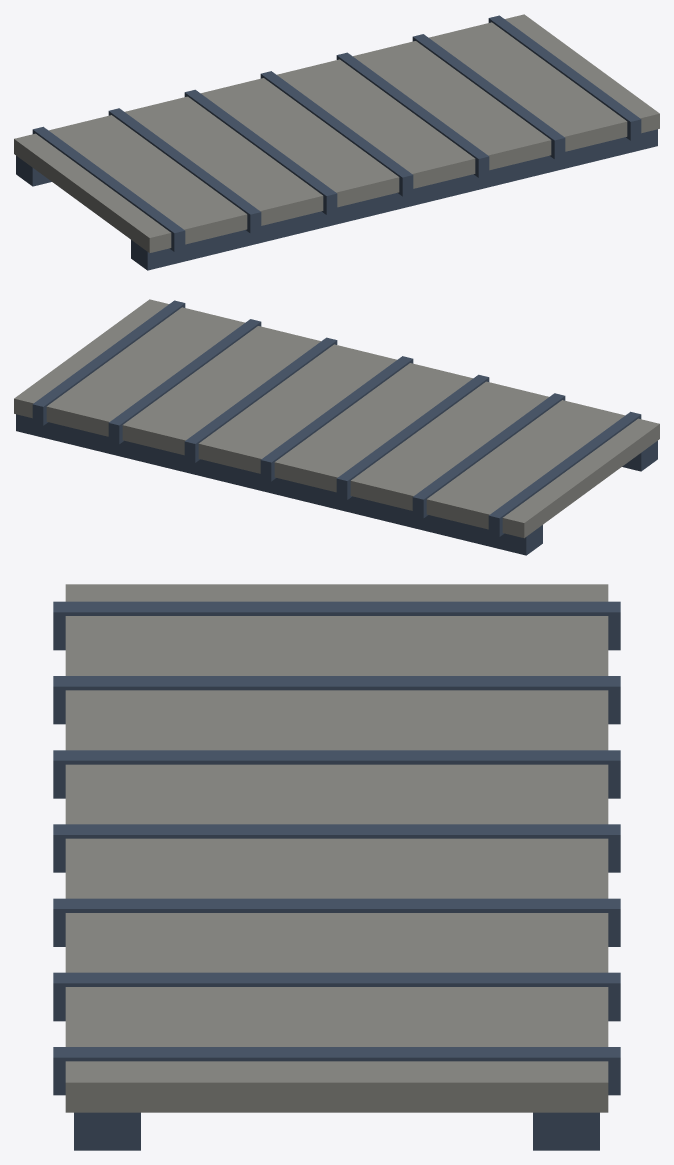
File: ko300_skid.obj
The picture shows the model from 3 angles, top to bottom: view 1: azimuth 30°, elevation 25°; view 2: azimuth 150°, elevation 25°; view 3: azimuth 270°, elevation 25°; orthographic projection. The views are drawn at different scales.
Parts seen in each view (by area): view 1: ko300_skid; view 2: ko300_skid; view 3: ko300_skid.
Part boxes in pixels (<box>): ko300_skid: <box>14,14,659,270</box>; ko300_skid: <box>14,299,659,555</box>; ko300_skid: <box>53,584,620,1150</box>.
Bounding box in the file's own units: 2.82 × 0.19 × 1.36.
